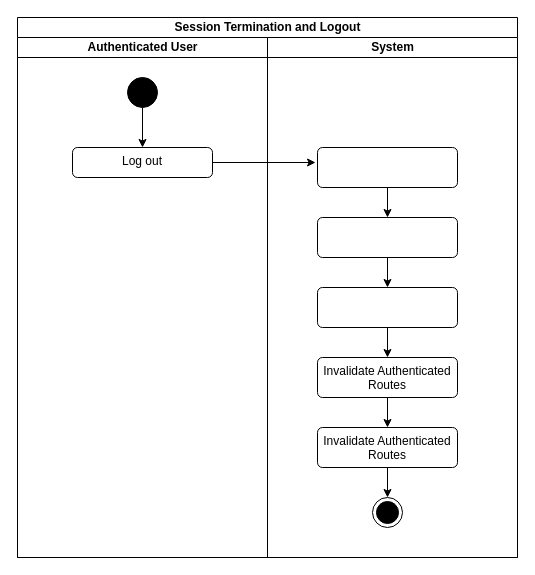
Image size: 535x575. Some labels were removed from this diagram. The shapes that lost their labels are listed below. From the top down, each one's centre as x and y in pixels, then its label:
At [387,167]: "Flush Active Session Data from Memory".
At [387,237]: "Regenerate CSRF Security Token".
At [387,307]: "Destroy Client Authentication Cookies".
